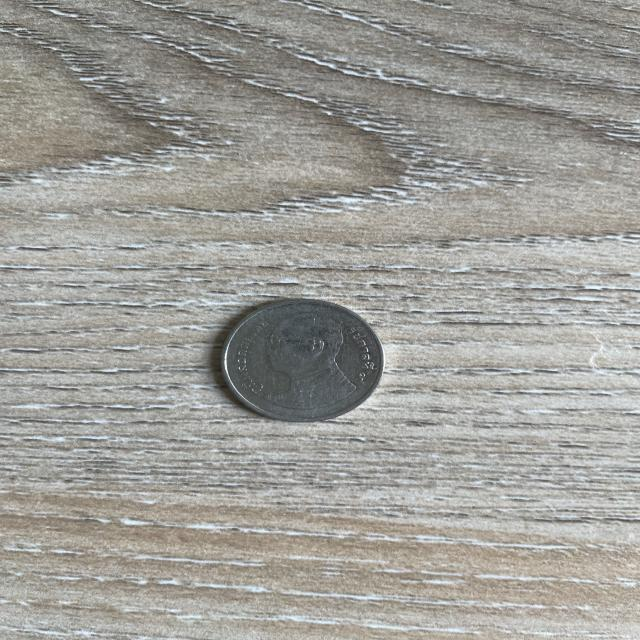1 Bath: (190, 287, 403, 434)
